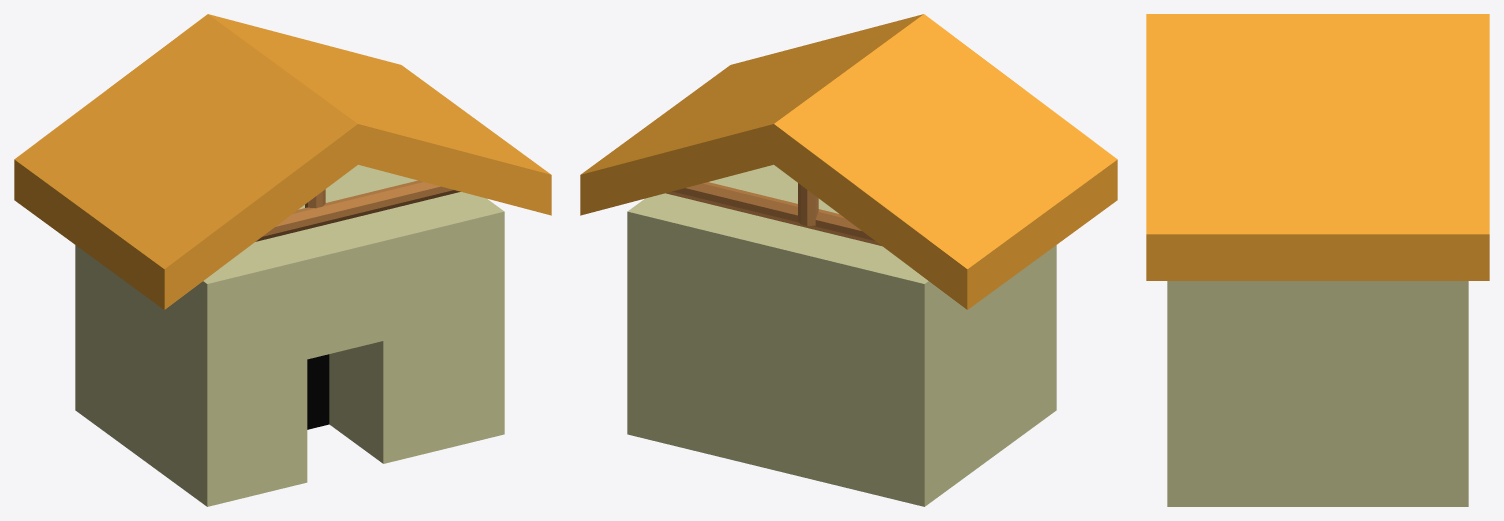
File: Casa2.fbx
3 renders of one model, left to right at view 1: azimuth 30°, elevation 25°; view 2: azimuth 150°, elevation 25°; view 3: azimuth 270°, elevation 25°, orthographic. The views are drawn at different scales.
Parts seen in each view (by area): view 1: Cube.002, Cube, Madeira; view 2: Cube.002, Cube, Madeira.005, Madeira.006; view 3: Cube, Cube.002.
Part boxes in pixels (left/top/right/bottom): Cube.002: left=75, top=164, right=504, bottom=506; Cube: left=14, top=14, right=551, bottom=309; Madeira: left=255, top=180, right=460, bottom=241; Cube.002: left=627, top=164, right=1056, bottom=506; Cube: left=580, top=14, right=1117, bottom=309; Madeira.005: left=666, top=182, right=881, bottom=245; Madeira.006: left=798, top=183, right=818, bottom=225; Cube: left=1146, top=14, right=1489, bottom=280; Cube.002: left=1167, top=281, right=1468, bottom=506.
Bounding box in the file's own units: 1784 × 1563 × 1198.
